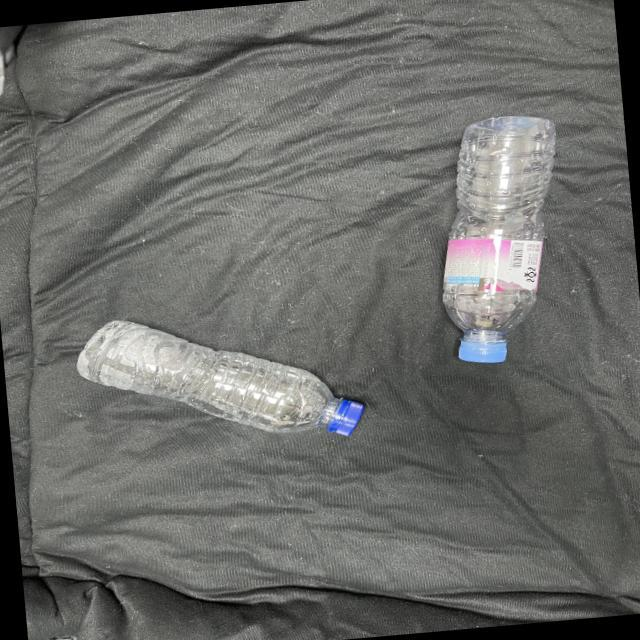good: (59, 304, 383, 457), (432, 106, 568, 376)
